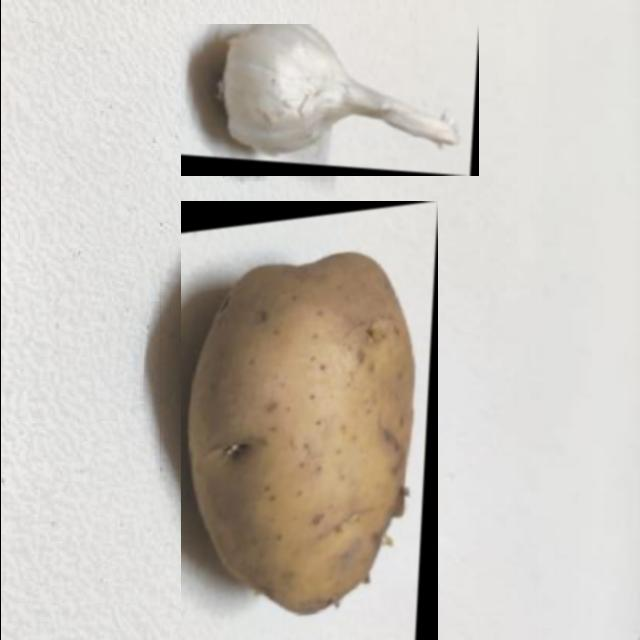garlic: (180, 24, 478, 176)
potato: (180, 201, 437, 640)
